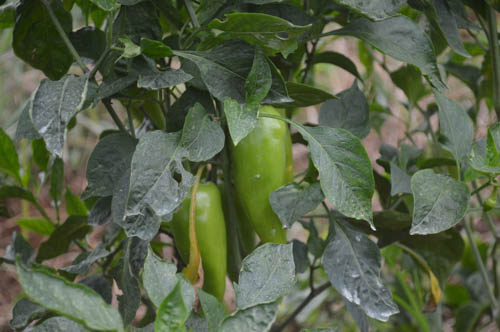ChiliPepper: (237, 103, 292, 239), (173, 181, 231, 302)
